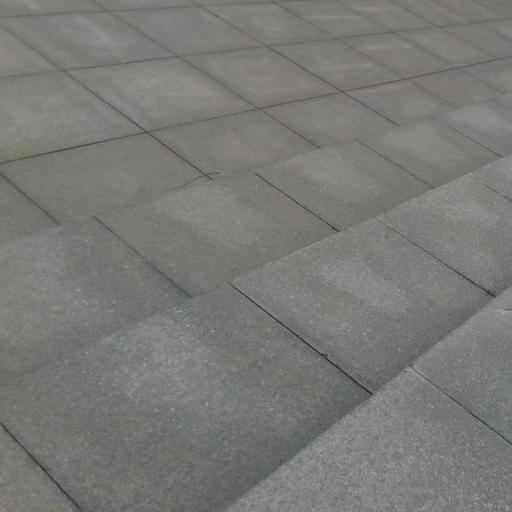stairs: (0, 150, 511, 511), (228, 288, 511, 511)
